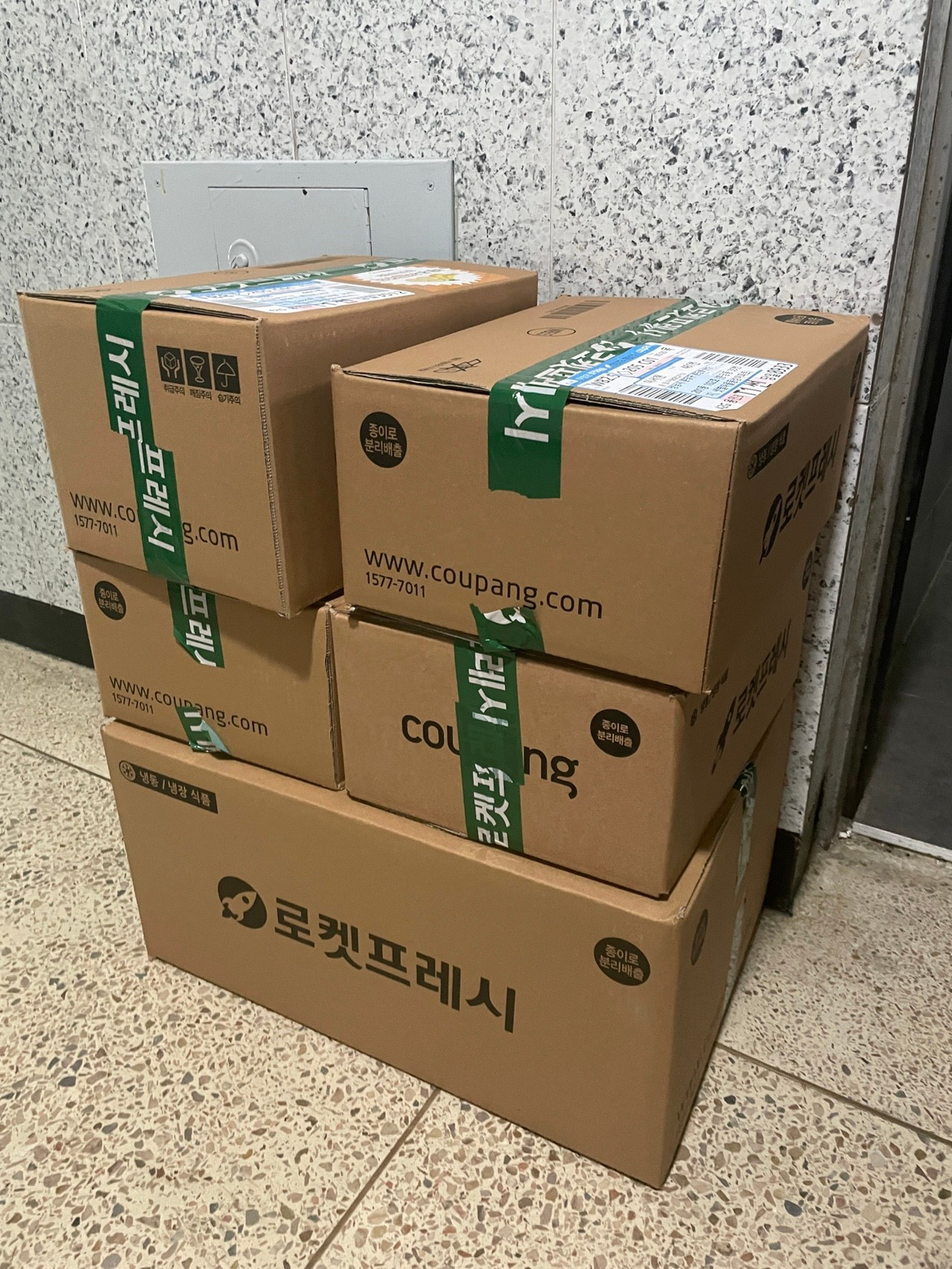undamaged: (12, 238, 883, 1207)
